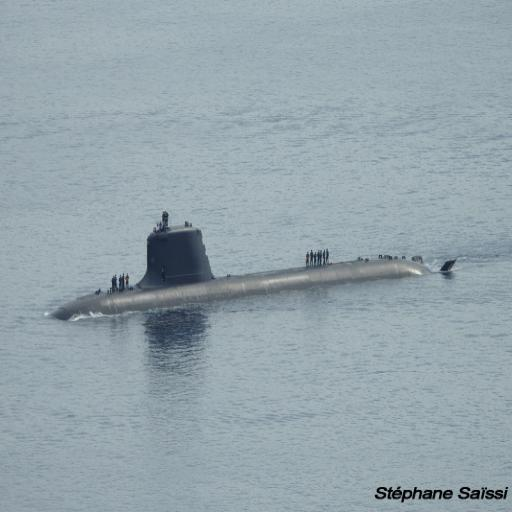submarine: (49, 229, 475, 323)
